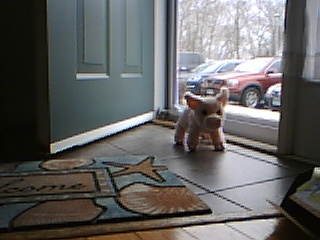piggy: (172, 86, 230, 154)
